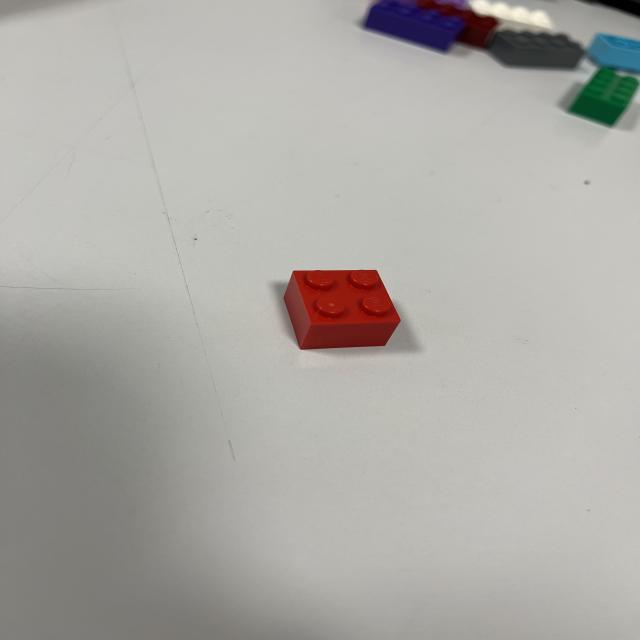C2x2x1: (284, 270, 411, 352)
